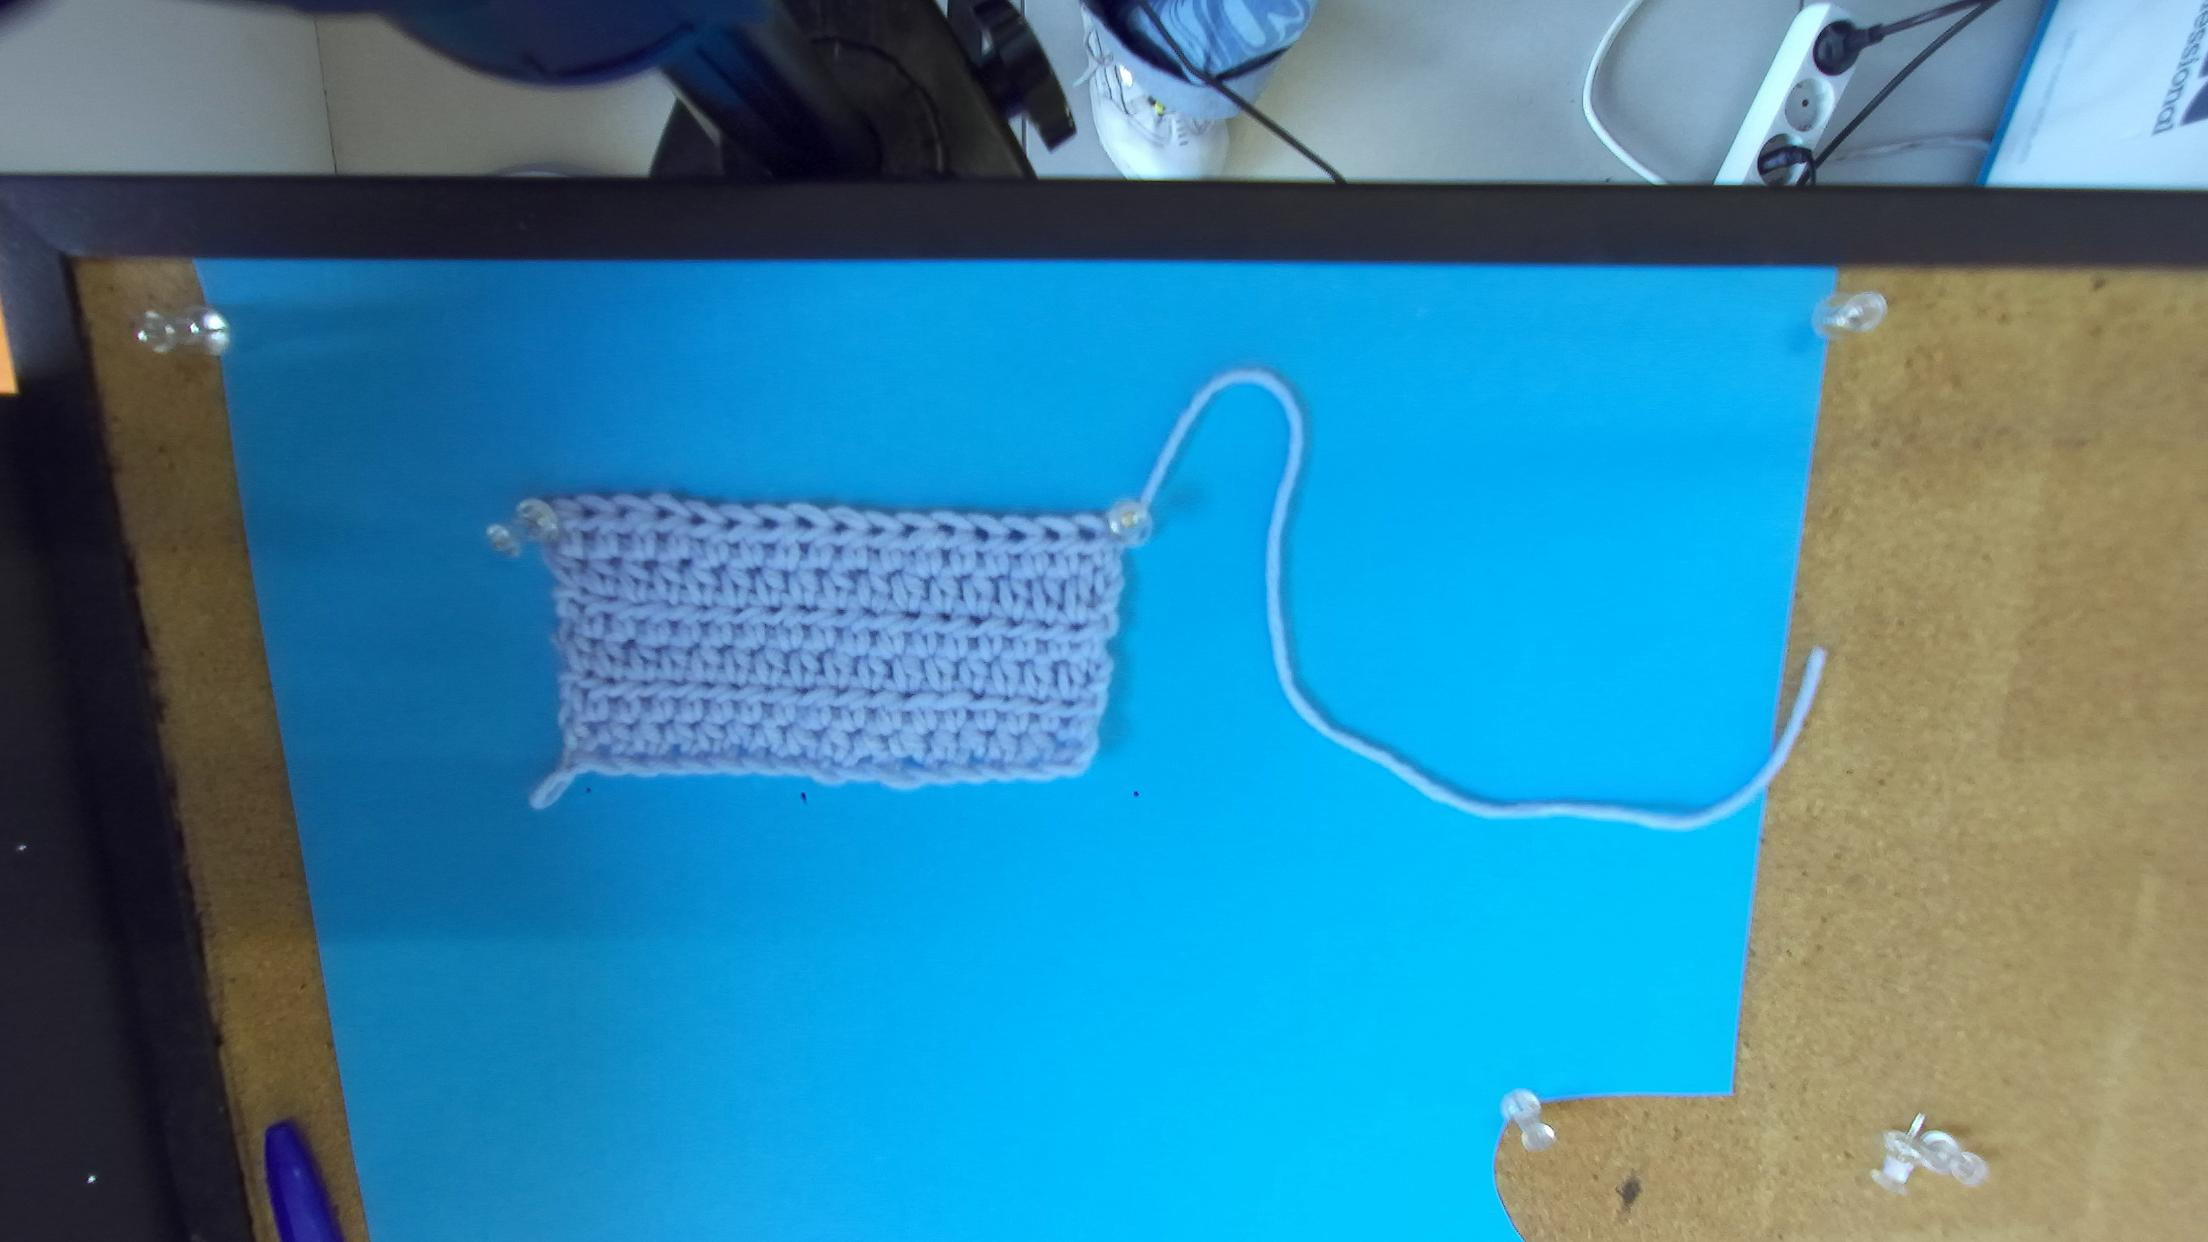hole: (1004, 526, 1028, 544), (896, 522, 919, 540), (934, 522, 957, 540), (757, 516, 779, 532), (793, 516, 816, 531), (972, 526, 990, 543), (1043, 526, 1062, 543), (584, 503, 604, 519), (616, 503, 635, 519), (722, 516, 742, 531), (833, 520, 852, 535), (1078, 526, 1095, 543), (655, 507, 675, 520), (688, 511, 708, 525), (864, 526, 886, 538)
swatch: (503, 493, 1149, 789)
